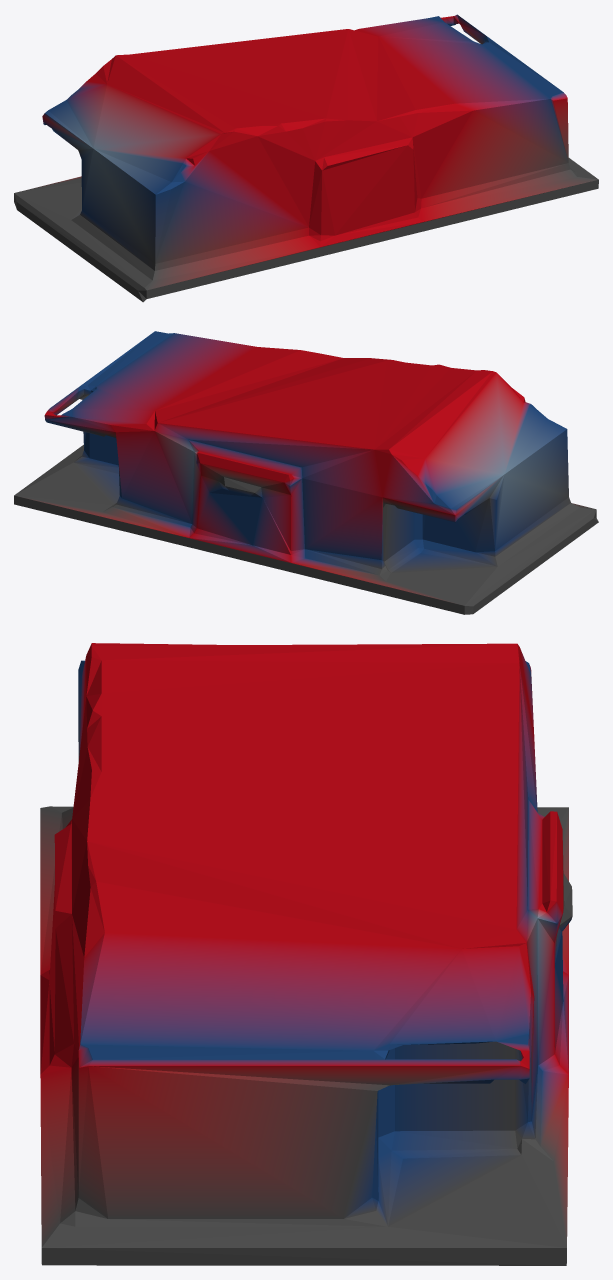
The model's file is Convenience Stores.glb.
3 renders of one model, top to bottom at view 1: azimuth 30°, elevation 25°; view 2: azimuth 150°, elevation 25°; view 3: azimuth 270°, elevation 25°, orthographic. The views are drawn at different scales.
Visible parts, largest first — view 1: Root; view 2: Root; view 3: Root.
Part boxes in pixels (box(x1,y1,x2,y2)): Root: box(14, 14, 598, 302); Root: box(14, 331, 598, 614); Root: box(40, 643, 572, 1265).
Bounding box in the file's own units: 20.9 × 6.04 × 10.62.
